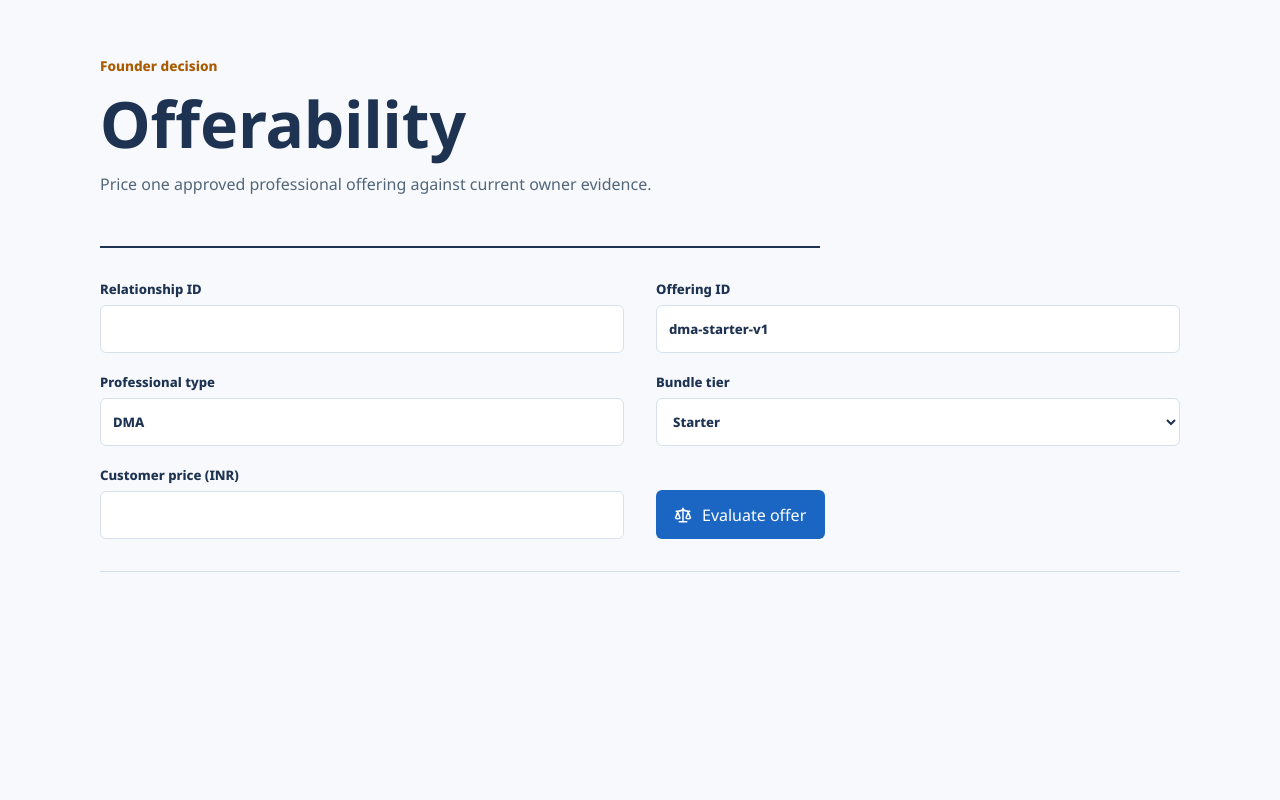
Test: renders a non-allow decision with its reasons
The width and height of the screenshot is (1280, 800).
In the field labelled "Relationship ID": (362, 329) left=100, top=305, right=624, bottom=353, type "3d0deade-9890-46d8-8dd3-530a23b54102"
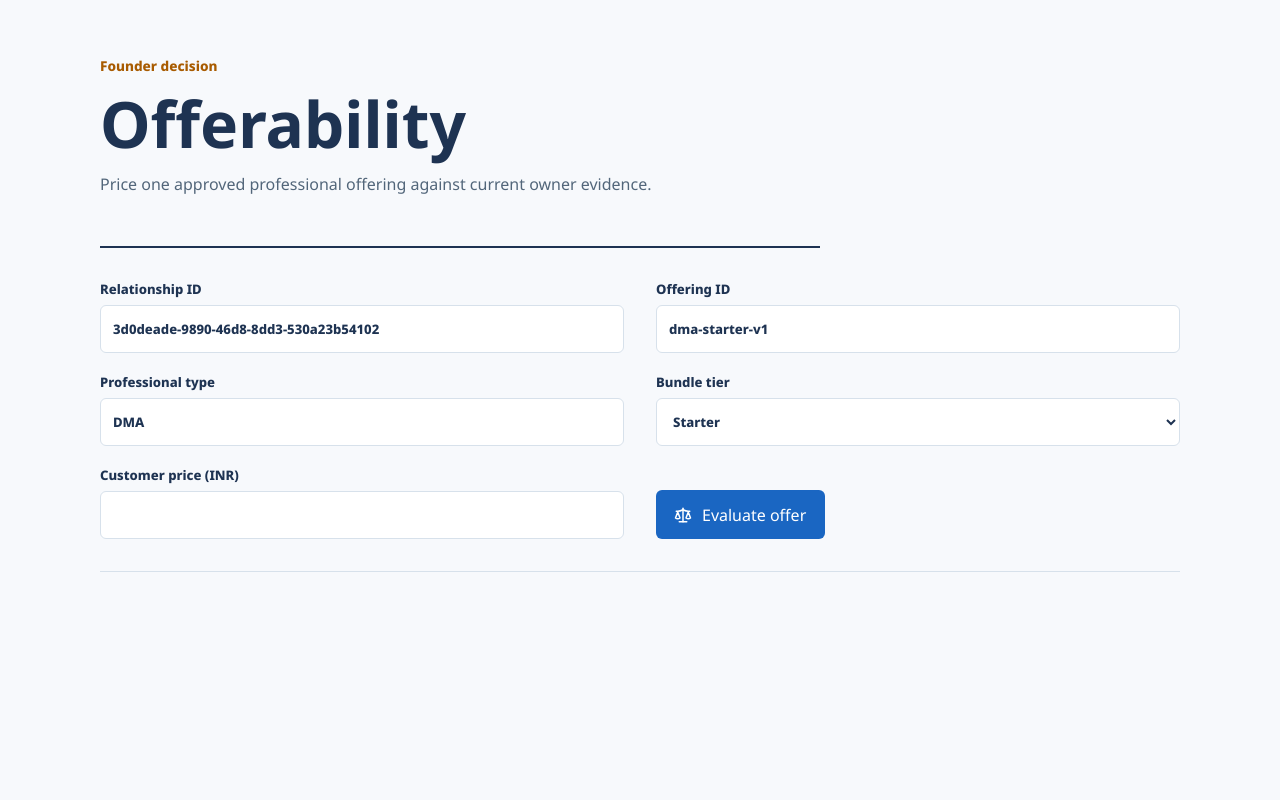
In the number field labelled "Customer price (INR)": (362, 515) left=100, top=491, right=624, bottom=539, type "49.00"
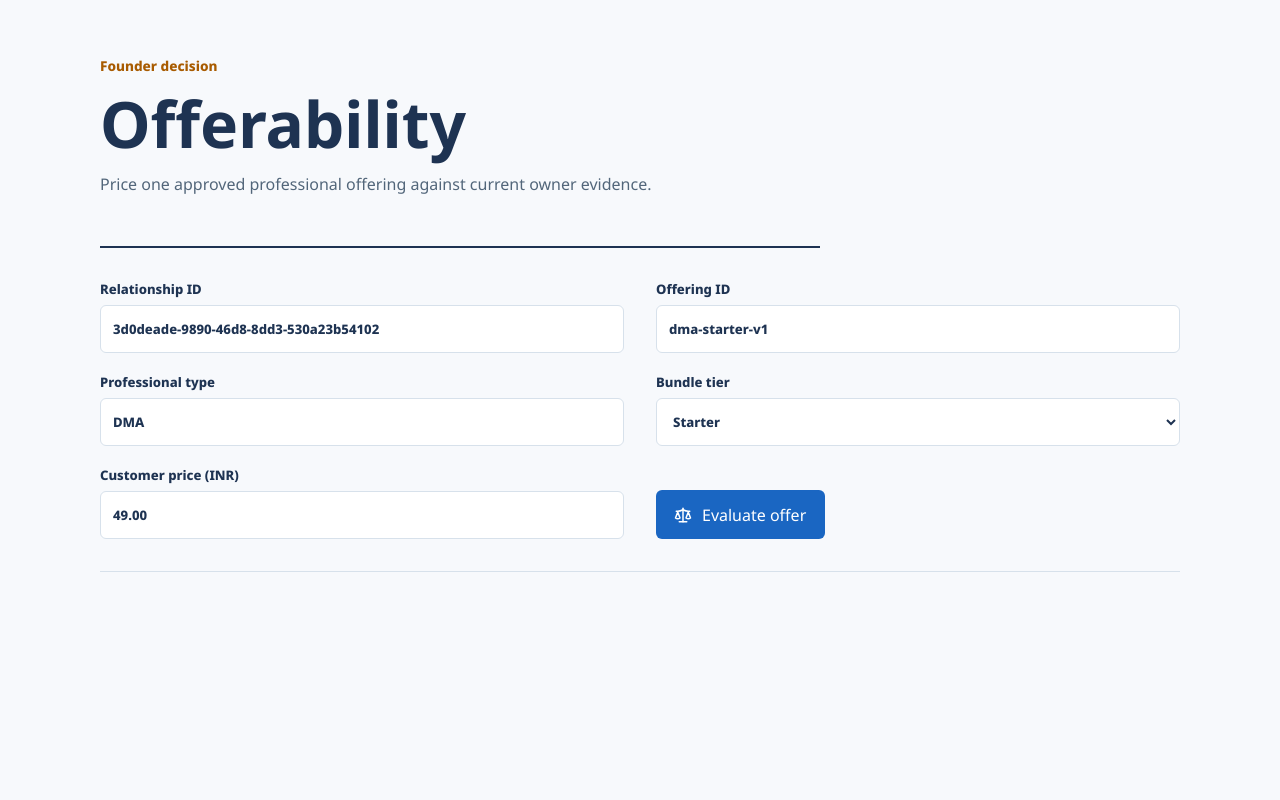
Click the button "Evaluate offer": (740, 515) left=656, top=490, right=825, bottom=539
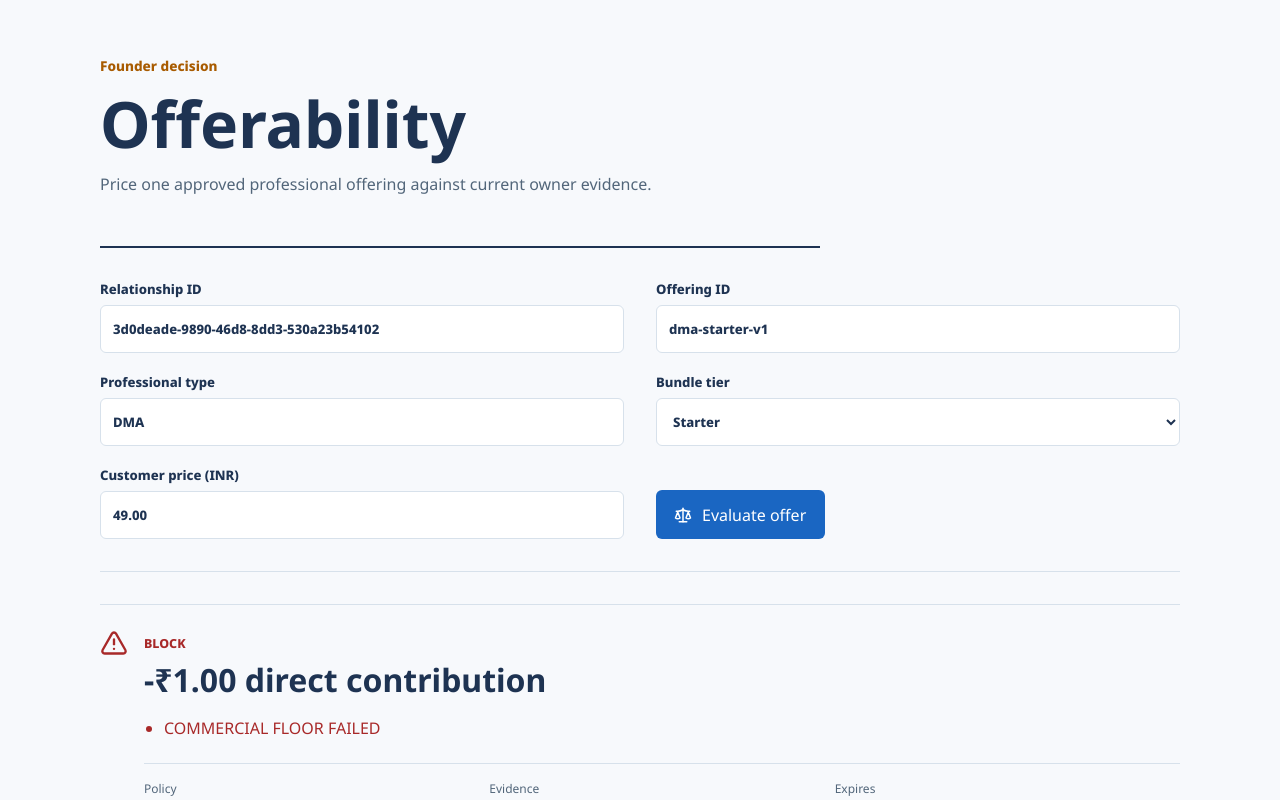
Expected: the text "BLOCK" is shown, left=144, top=635, right=186, bottom=652
Expected: the list item "COMMERCIAL FLOOR FAILED" is shown, left=164, top=717, right=380, bottom=739
